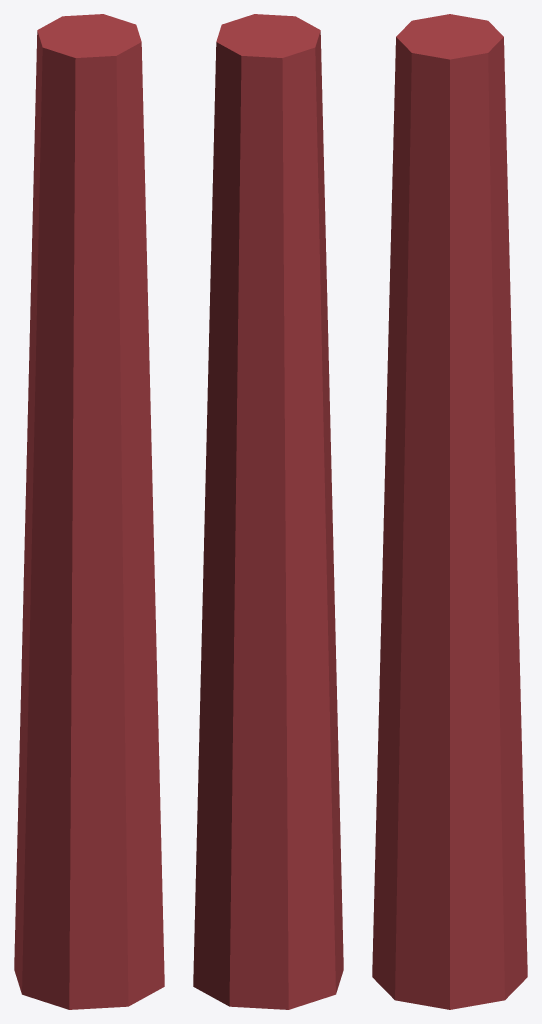
Rendered from wk_muscle_forearm_v01.glb.
3 views of the same model, side by side, from view 1: azimuth 30°, elevation 25°; view 2: azimuth 150°, elevation 25°; view 3: azimuth 270°, elevation 25° (orthographic).
Parts seen in each view (by area): view 1: GEO_Muscle_forearm; view 2: GEO_Muscle_forearm; view 3: GEO_Muscle_forearm.
Part boxes in pixels (bbox=[...]): GEO_Muscle_forearm: bbox=[14, 14, 164, 1009]; GEO_Muscle_forearm: bbox=[193, 14, 343, 1009]; GEO_Muscle_forearm: bbox=[372, 14, 527, 1009].
Bounding box in the file's own units: 0.15 × 1 × 0.15.
